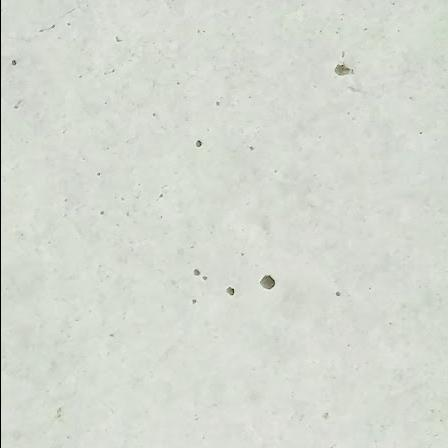crack: (1, 0, 92, 52)
hole: (258, 274, 275, 290)
spalling: (331, 64, 355, 81)
